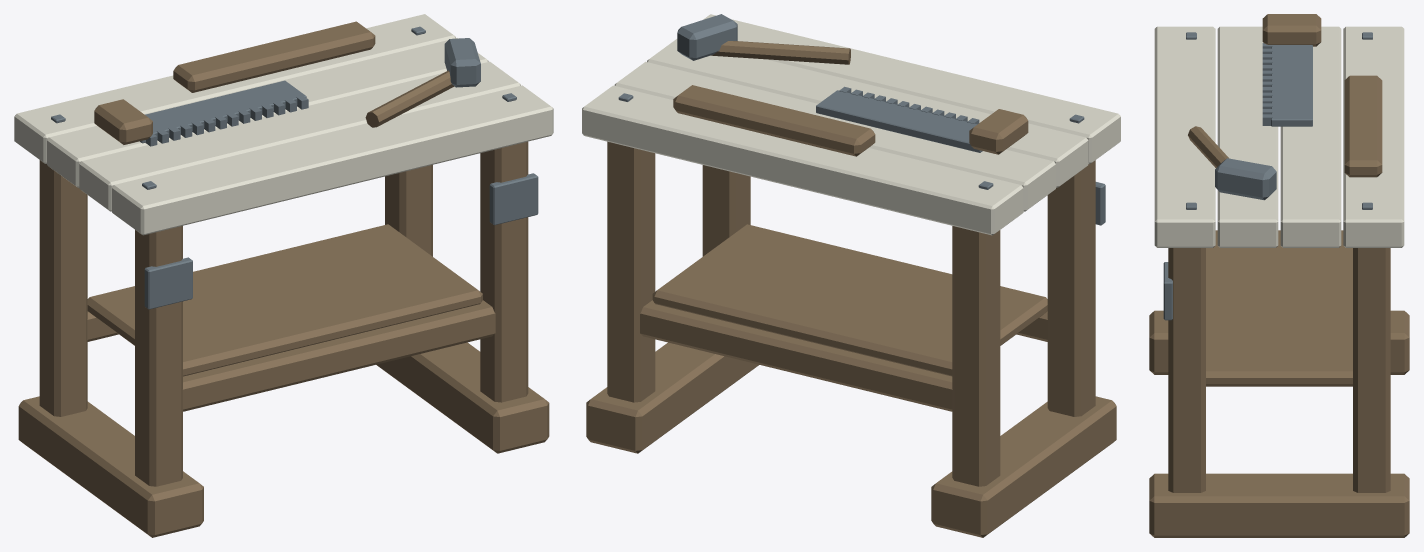
Rendered from shipworkbench.glb.
3 renders of one model, left to right at view 1: azimuth 30°, elevation 25°; view 2: azimuth 150°, elevation 25°; view 3: azimuth 270°, elevation 25°, orthographic. The views are drawn at different scales.
Parts seen in each view (by area): view 1: Lower shelf, Worktop plank, Worktop plank.001, Trestle foot, Trestle leg.001, Cross member, Trestle leg, Trestle leg.002, Worktop plank.003, Trestle foot.001, Worktop plank.002, Planed board (+7 smaller); view 2: Lower shelf, Worktop plank.003, Trestle leg.001, Trestle leg.003, Trestle foot, Trestle leg, Cross member.001, Worktop plank, Worktop plank.001, Trestle foot.001, Worktop plank.002, Planed board (+5 smaller); view 3: Lower shelf, Trestle foot.001, Worktop plank, Worktop plank.002, Worktop plank.001, Worktop plank.003, Trestle leg.003, Trestle leg.002, Planed board, Saw blade, Trestle foot, Mallet head (+3 smaller).
Part boxes in pixels (x1=…): Lower shelf: x1=87, y1=224, x2=482, y2=376; Worktop plank: x1=112, y1=85, x2=553, y2=235; Worktop plank.001: x1=79, y1=61, x2=520, y2=211; Trestle foot: x1=18, y1=396, x2=203, y2=537; Trestle leg.001: x1=39, y1=160, x2=87, y2=416; Cross member: x1=182, y1=300, x2=495, y2=411; Trestle leg: x1=135, y1=226, x2=182, y2=486; Trestle leg.002: x1=480, y1=141, x2=528, y2=402; Worktop plank.003: x1=14, y1=14, x2=455, y2=163; Trestle foot.001: x1=376, y1=342, x2=549, y2=453; Worktop plank.002: x1=47, y1=38, x2=488, y2=187; Planed board: x1=173, y1=21, x2=375, y2=92; Lower shelf: x1=652, y1=224, x2=1047, y2=376; Worktop plank.003: x1=582, y1=85, x2=1023, y2=235; Trestle leg.001: x1=952, y1=226, x2=1000, y2=486; Trestle leg.003: x1=607, y1=141, x2=655, y2=402; Trestle foot: x1=931, y1=396, x2=1116, y2=537; Trestle leg: x1=1047, y1=160, x2=1095, y2=416; Cross member.001: x1=640, y1=300, x2=952, y2=411; Worktop plank: x1=703, y1=14, x2=1120, y2=164; Worktop plank.001: x1=647, y1=39, x2=1088, y2=187; Trestle foot.001: x1=586, y1=342, x2=759, y2=453; Worktop plank.002: x1=614, y1=61, x2=1055, y2=211; Planed board: x1=673, y1=85, x2=875, y2=156; Lower shelf: x1=1206, y1=230, x2=1352, y2=386; Trestle foot.001: x1=1149, y1=473, x2=1409, y2=537; Worktop plank: x1=1154, y1=26, x2=1215, y2=247; Worktop plank.002: x1=1280, y1=26, x2=1341, y2=247; Worktop plank.001: x1=1217, y1=26, x2=1278, y2=247; Worktop plank.003: x1=1343, y1=26, x2=1404, y2=247; Trestle leg.003: x1=1353, y1=248, x2=1390, y2=492; Trestle leg.002: x1=1168, y1=248, x2=1205, y2=492; Planed board: x1=1344, y1=75, x2=1382, y2=177; Saw blade: x1=1271, y1=45, x2=1312, y2=126; Trestle foot: x1=1149, y1=310, x2=1409, y2=374; Mallet head: x1=1215, y1=158, x2=1276, y2=200.
Size of the model in its own units: 1.1 by 0.935 by 0.62.
